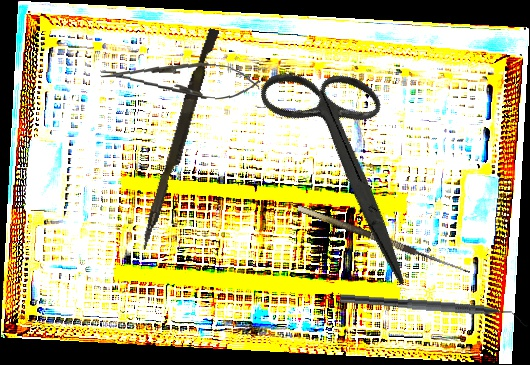Chopper: (337, 293, 530, 329)
Hook Surgical: (296, 195, 475, 277)
Iris Scissors: (211, 38, 483, 286)
Needle Holder: (97, 54, 263, 103)
Pusher: (139, 26, 220, 253)
